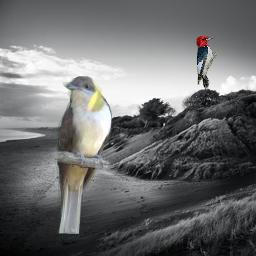Cuckoo: (54, 76, 112, 234)
Woodpecker: (195, 36, 218, 92)
